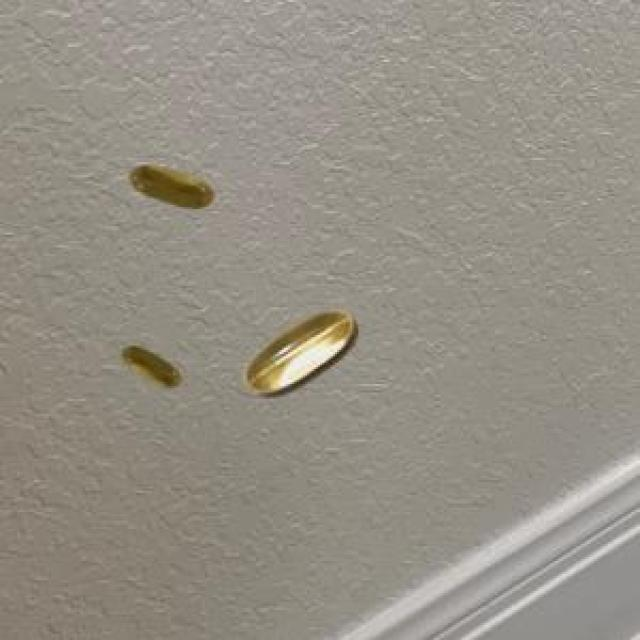Fish_Oil: (243, 303, 369, 409), (119, 145, 222, 227), (108, 333, 192, 398)
